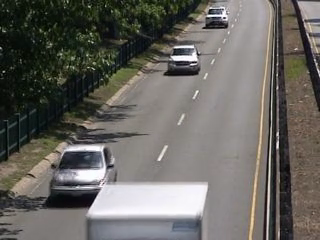car: (45, 139, 122, 203), (161, 40, 203, 82), (202, 3, 232, 30)
truck: (81, 179, 219, 240)
